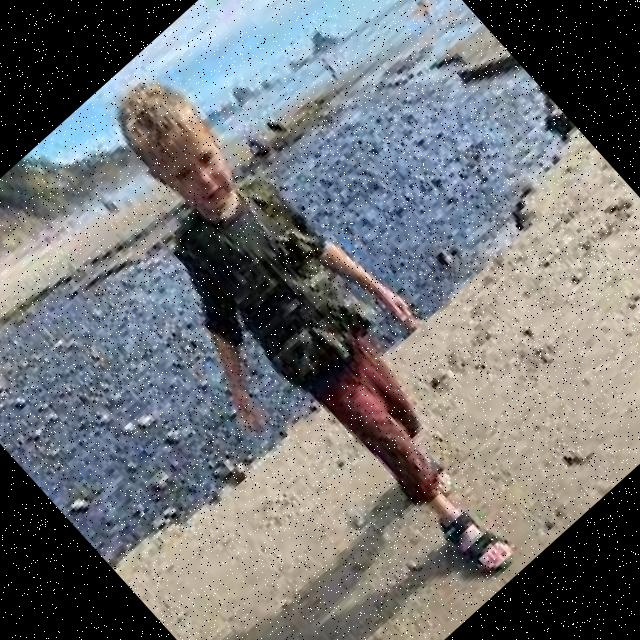Person: (24, 46, 578, 630)
